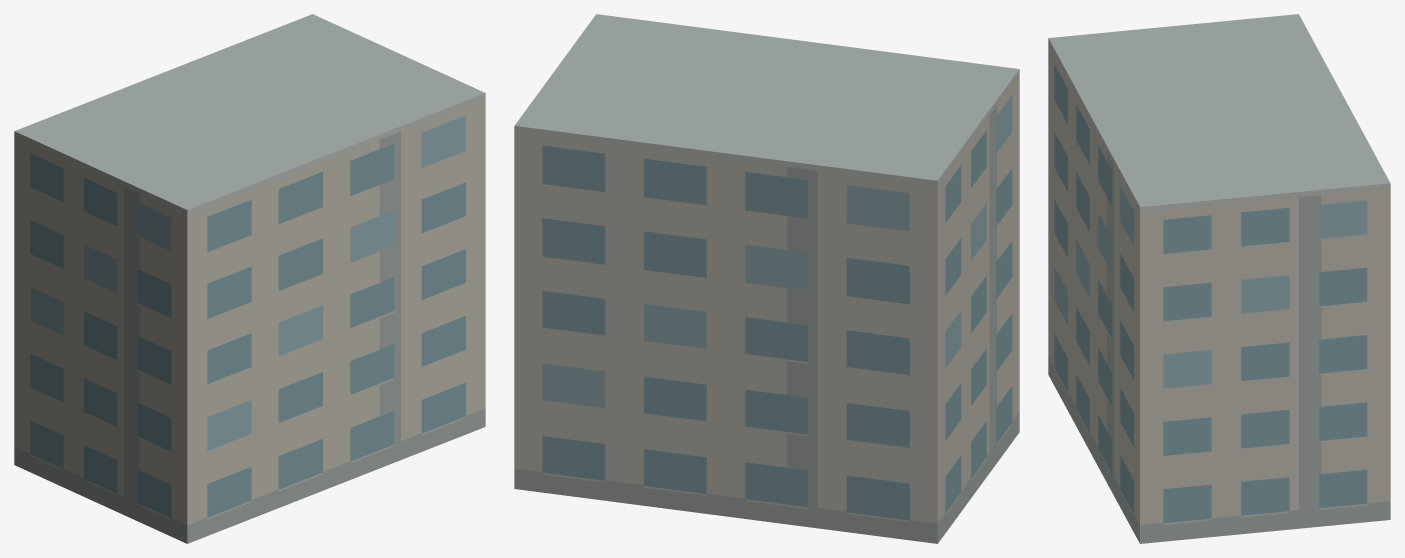
Rendered from survey-upis-32597397.glb.
The picture shows the model from 3 angles, left to right: view 1: azimuth 30°, elevation 25°; view 2: azimuth 150°, elevation 25°; view 3: azimuth 270°, elevation 25°; orthographic projection. The views are drawn at different scales.
Visible parts, largest first — view 1: survey-upis-32597397.tmp; view 2: survey-upis-32597397.tmp; view 3: survey-upis-32597397.tmp.
Boxes of the visible parts, x1,y1,x2,y2 form: survey-upis-32597397.tmp: (14,14,485,543); survey-upis-32597397.tmp: (514,14,1019,543); survey-upis-32597397.tmp: (1048,14,1390,543).
Bounding box in the file's own units: 18.78 × 15.25 × 14.05.
